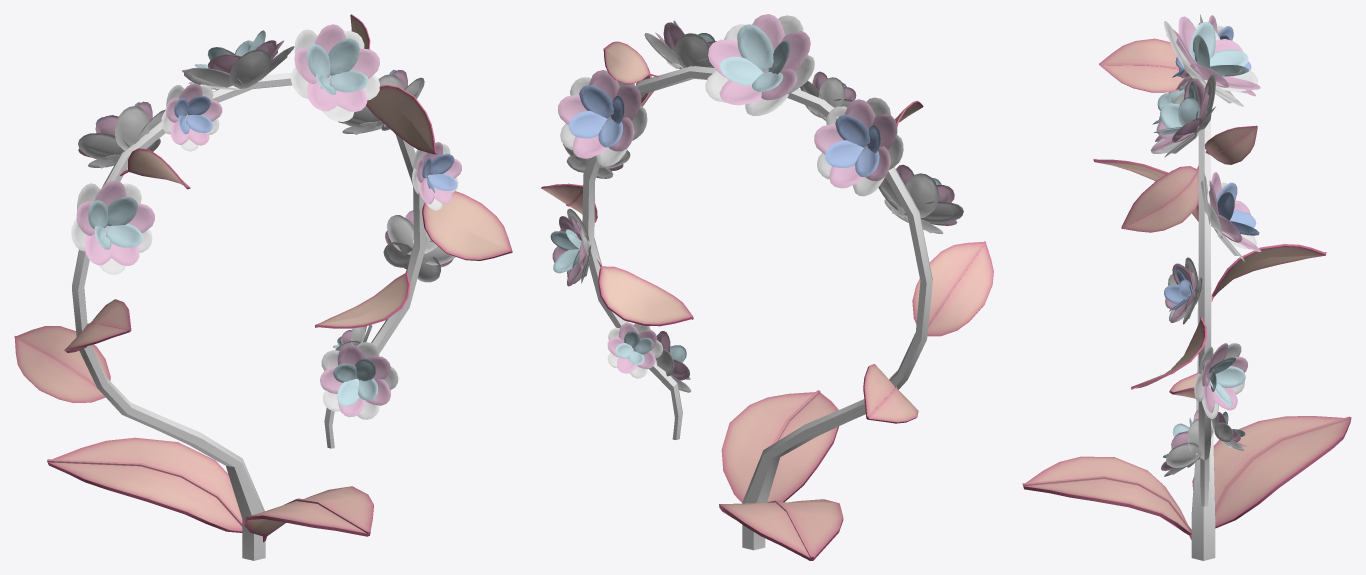
Rendered from flower6.fbx.
3 renders of one model, left to right at view 1: azimuth 30°, elevation 25°; view 2: azimuth 150°, elevation 25°; view 3: azimuth 270°, elevation 25°, orthographic.
Parts seen in each view (by area): view 1: pCylinder45, pPlane298, pPlane299, pPlane302, pPlane297, pPlane304, pPlane303, pPlane300, pPlane301, pPlane443, pPlane415, pPlane416 (+7 smaller); view 2: pCylinder45, pPlane297, pPlane300, pPlane298, pPlane303, pPlane299, pPlane305, pPlane447, pPlane409, pPlane460, pPlane442, pPlane398 (+16 smaller); view 3: pPlane298, pPlane297, pCylinder45, pPlane304, pPlane301, pPlane299, pPlane305, pPlane302, pPlane300, pPlane483, pPlane448, pPlane449 (+5 smaller).
Boxes of the visible parts, box(x1,y1,x2,y2) form: pCylinder45: box(72, 72, 426, 560); pPlane298: box(47, 437, 242, 532); pPlane299: box(14, 326, 110, 402); pPlane302: box(422, 191, 512, 260); pPlane297: box(243, 486, 373, 542); pPlane304: box(366, 84, 436, 154); pPlane303: box(315, 264, 410, 328); pPlane300: box(64, 299, 131, 352); pPlane301: box(120, 148, 190, 189); pPlane443: box(229, 49, 271, 88); pPlane415: box(115, 106, 149, 150); pPlane416: box(78, 133, 129, 161); pCylinder45: box(582, 66, 932, 550); pPlane297: box(721, 390, 838, 502); pPlane300: box(912, 241, 993, 336); pPlane298: box(719, 499, 843, 560); pPlane303: box(597, 259, 693, 326); pPlane299: box(863, 364, 918, 423); pPlane305: box(603, 41, 658, 83); pPlane447: box(737, 24, 773, 71); pPlane409: box(675, 33, 710, 68); pPlane460: box(905, 173, 938, 217); pPlane442: box(720, 56, 763, 85); pPlane398: box(824, 140, 863, 168); pPlane298: box(1192, 416, 1351, 528); pPlane297: box(1022, 456, 1191, 539); pCylinder45: box(1191, 80, 1215, 560); pPlane304: box(1121, 165, 1198, 232); pPlane301: box(1099, 38, 1183, 92); pPlane299: box(1211, 244, 1326, 301); pPlane305: box(1204, 125, 1257, 164); pPlane302: box(1131, 316, 1206, 389); pPlane300: box(1093, 159, 1198, 221); pPlane483: box(1166, 442, 1201, 467); pPlane448: box(1210, 49, 1248, 75); pPlane449: box(1189, 22, 1215, 61).
Size of the model in its own units: 1.52 by 1.75 by 0.9944.
